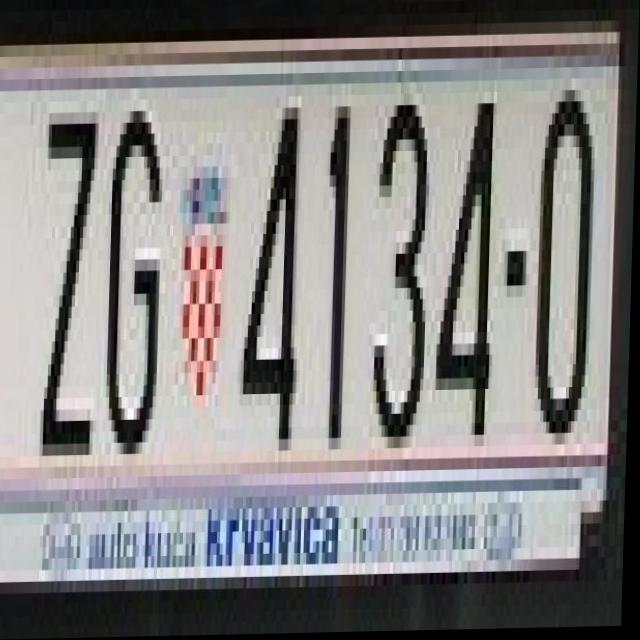0: (530, 93, 597, 437)
1: (316, 97, 358, 440)
3: (371, 95, 439, 485)
4: (434, 105, 510, 449), (235, 98, 305, 442)
G: (101, 111, 168, 455)
Z: (33, 78, 101, 445)
